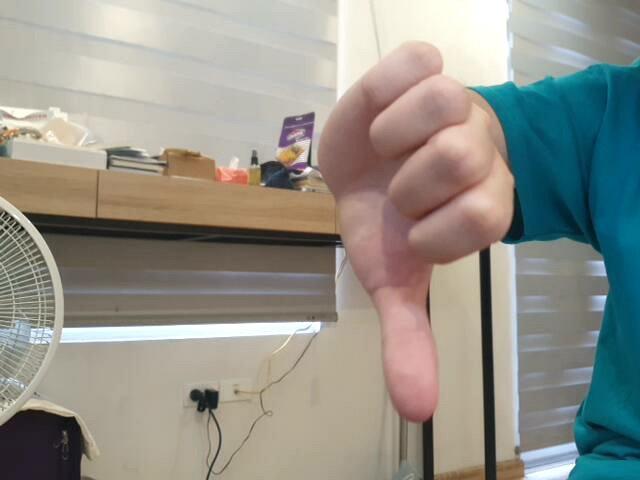ThumbsDown: (313, 36, 515, 428)
